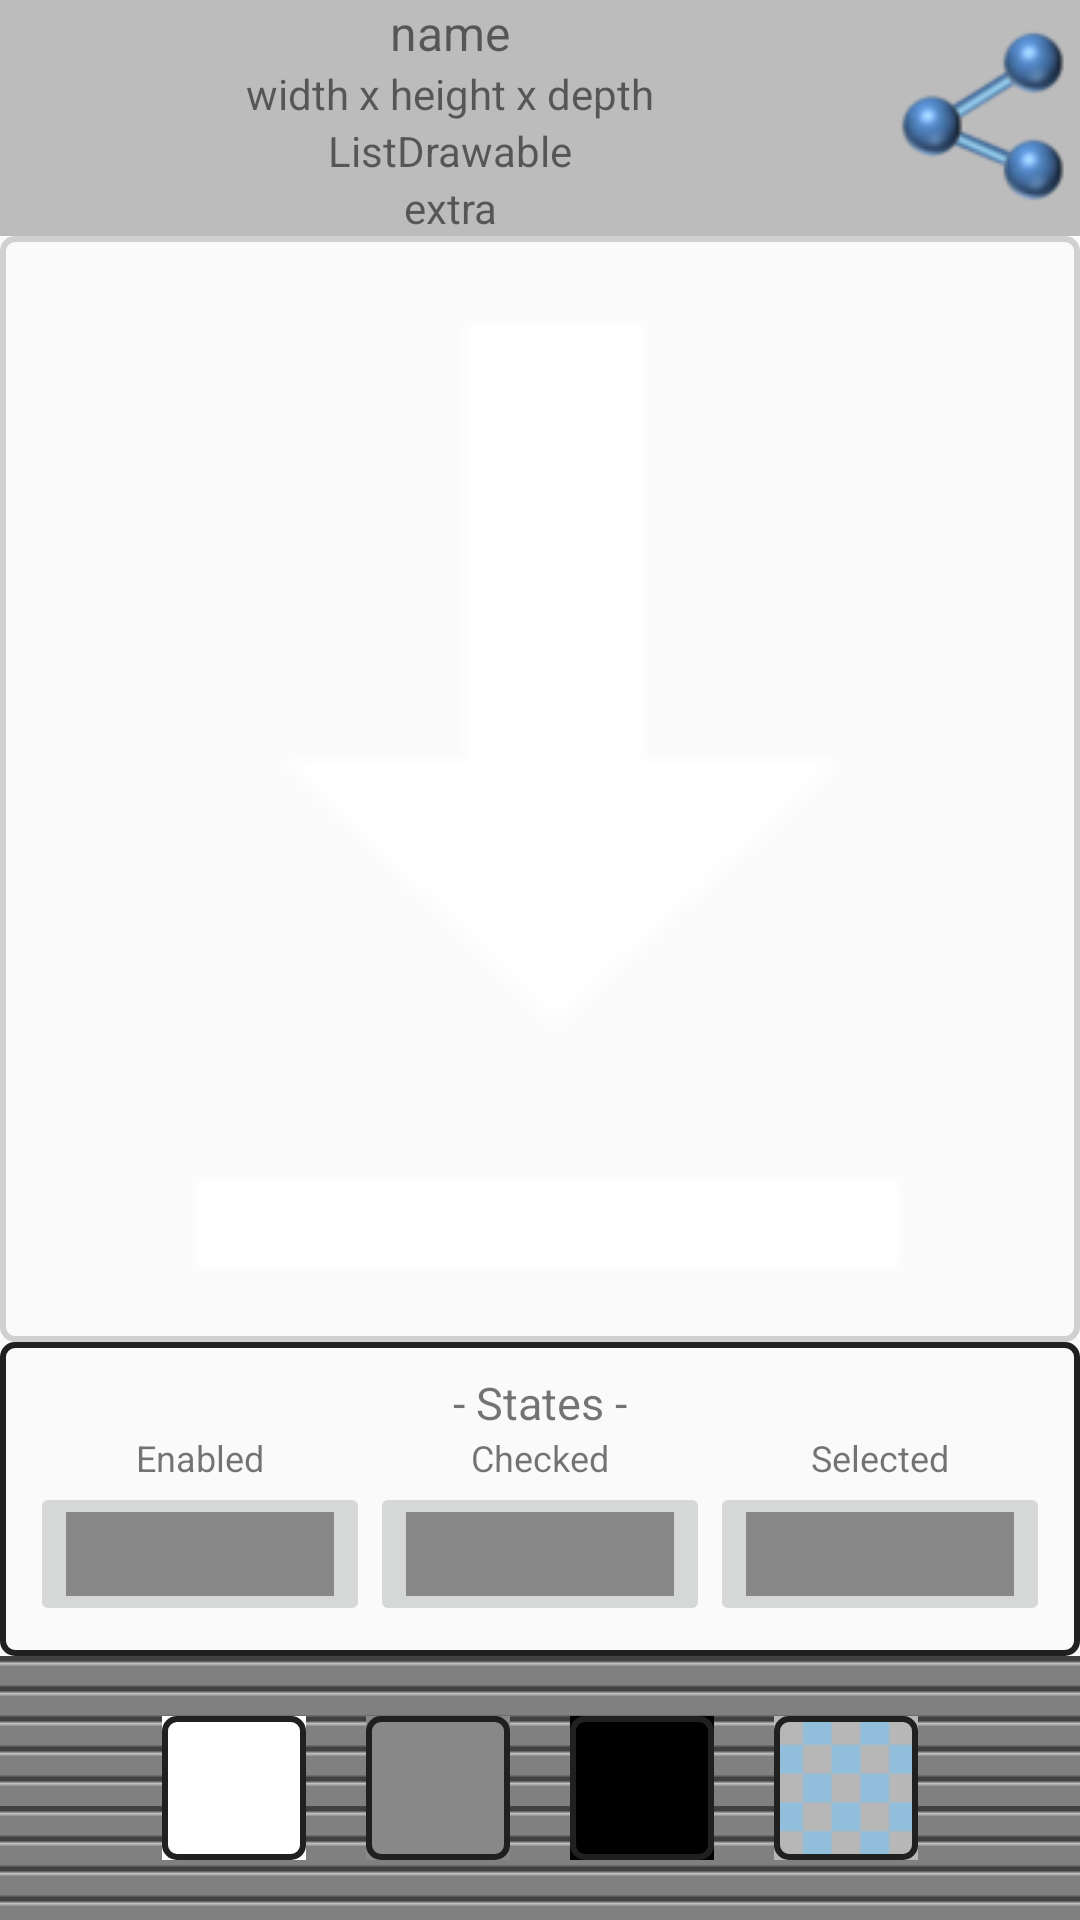

Named icons in this screenshot (1080px x 1920px) and their centers, (x=x, y=y):
Share: (x=983, y=116)
